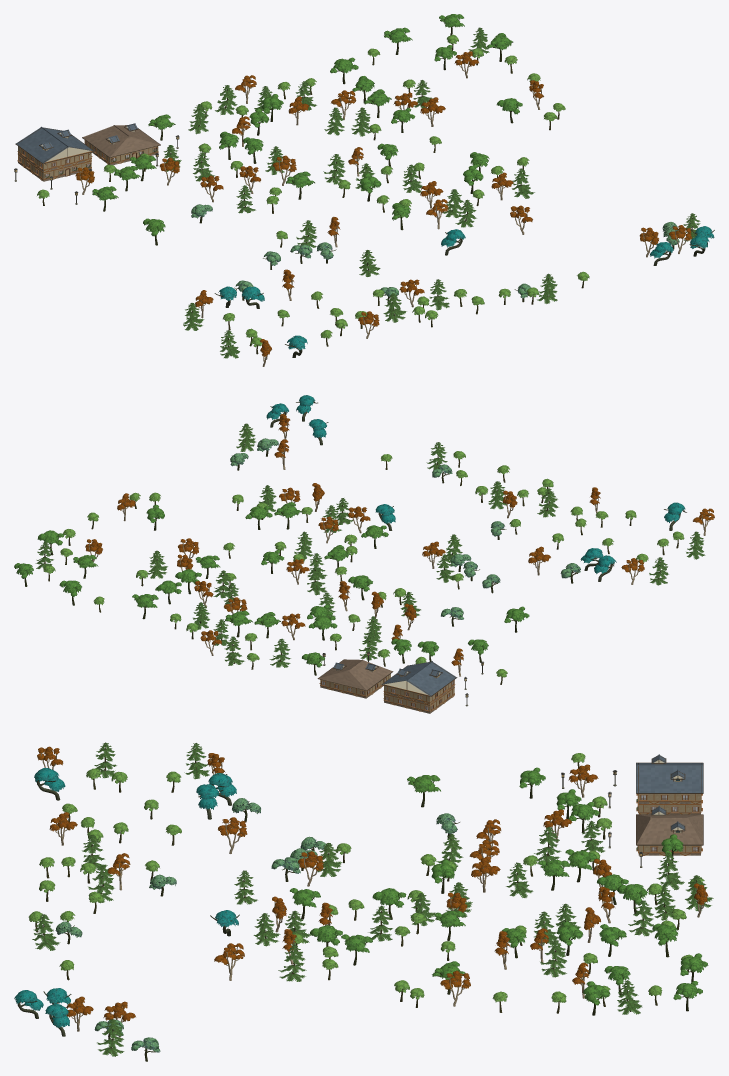
File: overworld-3-3.gltf
3 views of the same model, one above another, from view 1: azimuth 30°, elevation 25°; view 2: azimuth 150°, elevation 25°; view 3: azimuth 270°, elevation 25° (orthographic). The views are drawn at different scales.
Parts seen in each view (by area): view 1: e0f8614a950e5d452897ce36713cc6552d00732645a5cc2e4e2f6daeac58, 1ccb0161de4f4a2aab84acbf38d5fed6453f25b26d6e1bd4cd308a446e33; view 2: e0f8614a950e5d452897ce36713cc6552d00732645a5cc2e4e2f6daeac58, 1ccb0161de4f4a2aab84acbf38d5fed6453f25b26d6e1bd4cd308a446e33; view 3: 7e2e11a73c6c1f6b77c7c18c44a87655900818e94c168e7a92bb0a48cc87 (×7), e0f8614a950e5d452897ce36713cc6552d00732645a5cc2e4e2f6daeac58, 1ccb0161de4f4a2aab84acbf38d5fed6453f25b26d6e1bd4cd308a446e33, 883bf022a4c95c0b0a24ce14e7511dc7b18eb62759134961097aa30193af (×2), 133dae8ce562dbc4cbf0d0d2cb7dc4cb2baafed83b6c58ebd4446a365708.
Boxes of the visible parts, x1,y1,x2,y2 form: e0f8614a950e5d452897ce36713cc6552d00732645a5cc2e4e2f6daeac58: (15, 126, 94, 178); 1ccb0161de4f4a2aab84acbf38d5fed6453f25b26d6e1bd4cd308a446e33: (82, 123, 160, 162); e0f8614a950e5d452897ce36713cc6552d00732645a5cc2e4e2f6daeac58: (381, 661, 457, 696); 1ccb0161de4f4a2aab84acbf38d5fed6453f25b26d6e1bd4cd308a446e33: (317, 659, 393, 690); 7e2e11a73c6c1f6b77c7c18c44a87655900818e94c168e7a92bb0a48cc87 (×7): (32, 826, 684, 1056); e0f8614a950e5d452897ce36713cc6552d00732645a5cc2e4e2f6daeac58: (636, 754, 703, 810); 1ccb0161de4f4a2aab84acbf38d5fed6453f25b26d6e1bd4cd308a446e33: (636, 806, 703, 850); 883bf022a4c95c0b0a24ce14e7511dc7b18eb62759134961097aa30193af (×2): (34, 768, 223, 819); 133dae8ce562dbc4cbf0d0d2cb7dc4cb2baafed83b6c58ebd4446a365708: (218, 817, 247, 853).
Bounding box in the file's own units: 134 × 17.96 × 135.
67 materials, 50 textured.
